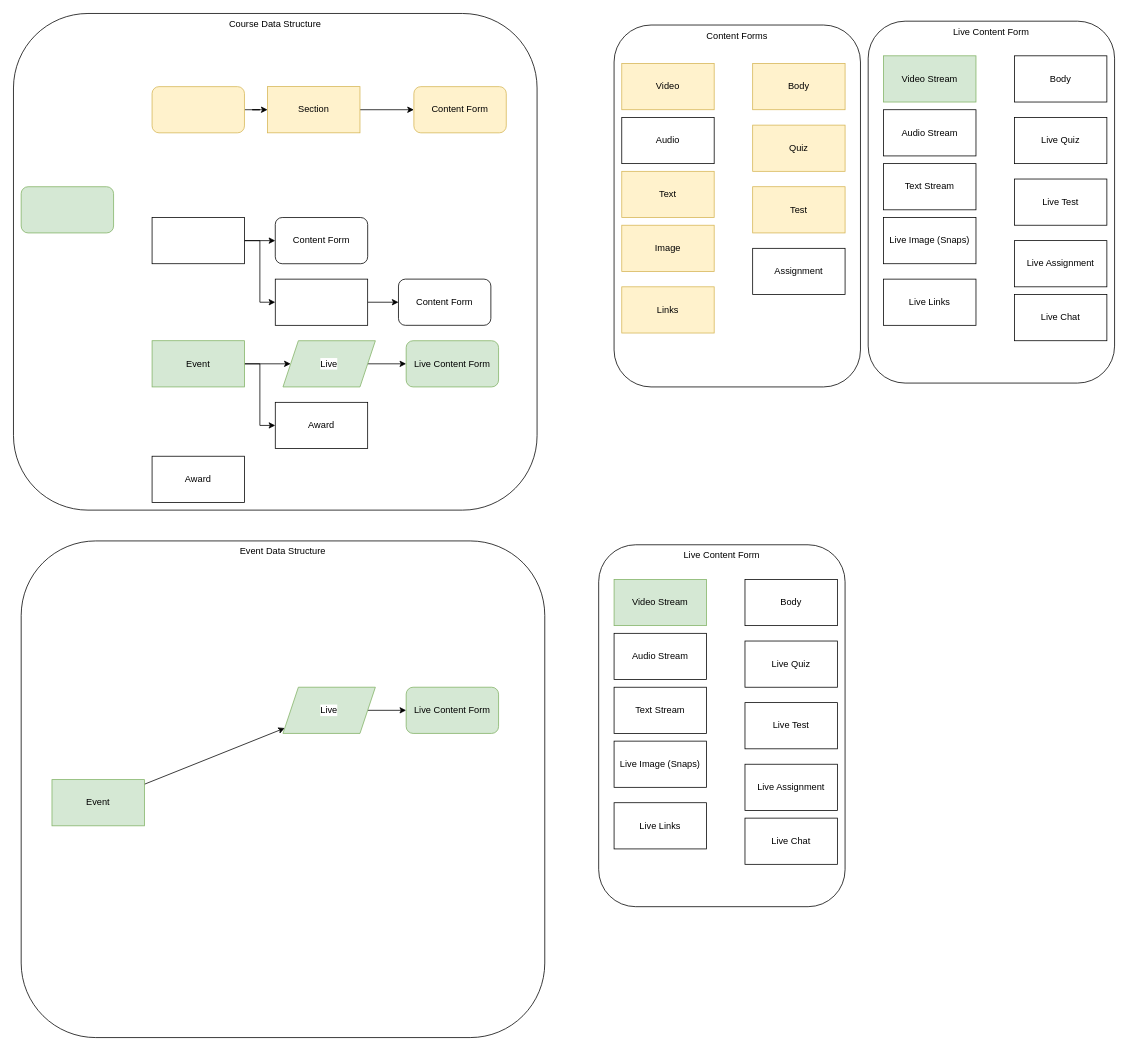
The diagram is 1136 pixels wide and 1051 high, and some of its shapes have lost their labels. The shapes that lost their labels are listed below. From the top down, each one's centre as x and y in pixels, then its label:
At (x=197, y=109): "Module".
At (x=67, y=209): "Course".
At (x=197, y=240): "Assessment".
At (x=321, y=301): "Exam".
